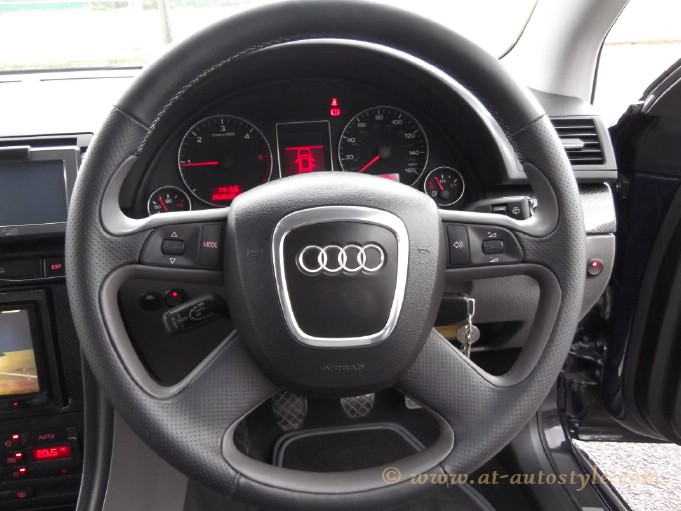audi: (294, 240, 392, 280)
